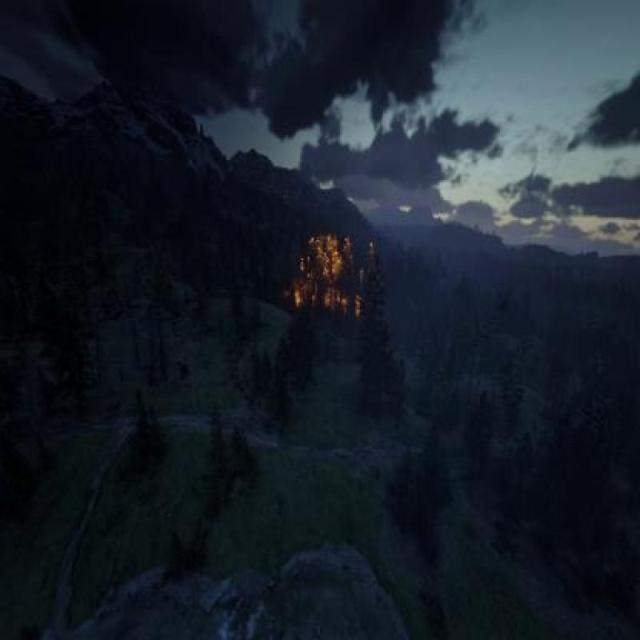Fire: (286, 228, 392, 332)
